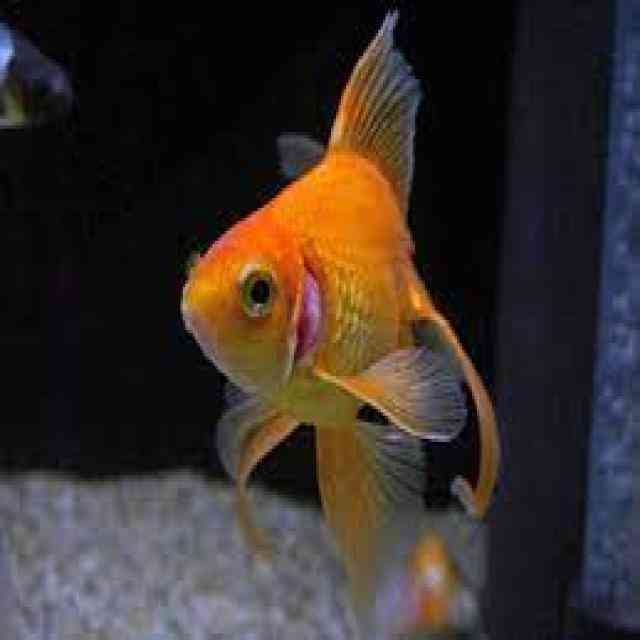Gill Disease: (182, 185, 470, 482)
